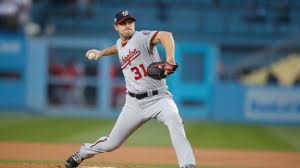baseball: (86, 51, 98, 61)
baseball player: (64, 9, 200, 168)
